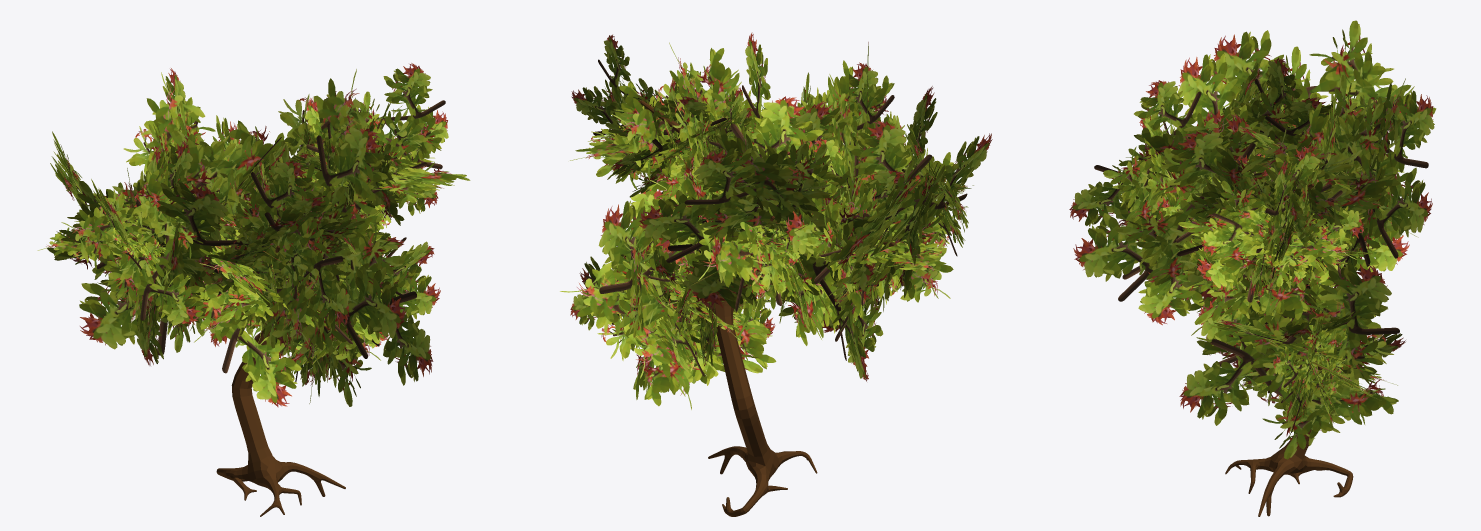
Rendered from FloweringTree1.fbx.
3 views of the same model, side by side, from view 1: azimuth 30°, elevation 25°; view 2: azimuth 150°, elevation 25°; view 3: azimuth 270°, elevation 25° (orthographic). The views are drawn at different scales.
Visible parts, largest first — view 1: Flower Tree 2 Leaves; view 2: Flower Tree 2 Leaves; view 3: Flower Tree 2 Leaves.
Part boxes in pixels (<box>): Flower Tree 2 Leaves: <box>37,63,470,516</box>; Flower Tree 2 Leaves: <box>560,32,992,516</box>; Flower Tree 2 Leaves: <box>1069,20,1436,516</box>.
Bounding box in the file's own units: 343 × 325 × 290.
